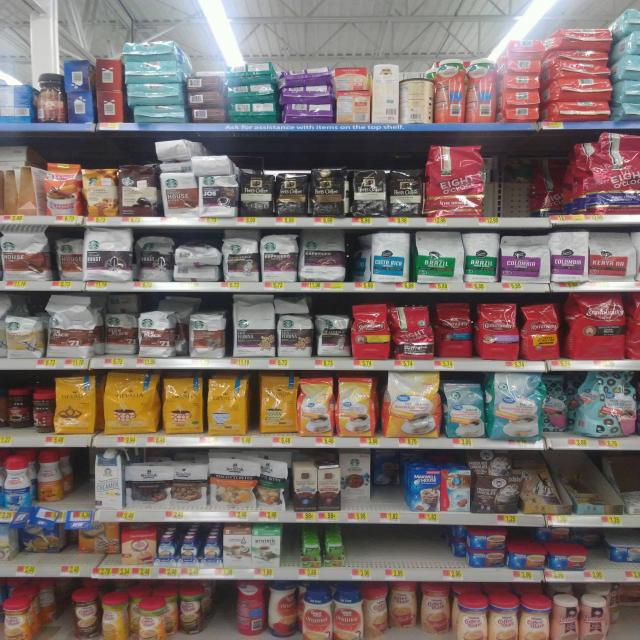void: (489, 132, 545, 227), (542, 132, 590, 224), (0, 154, 38, 224), (420, 530, 463, 580), (381, 526, 418, 581), (345, 524, 379, 582), (66, 449, 89, 520), (209, 580, 234, 638), (614, 590, 640, 640)
